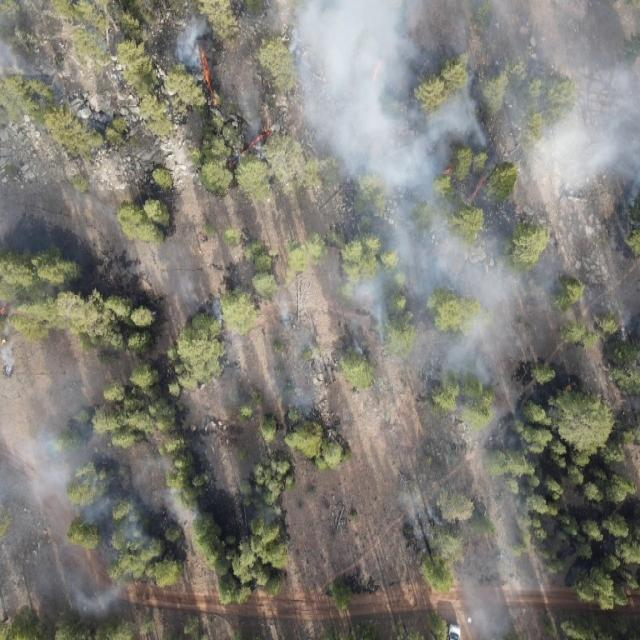fire: (225, 127, 272, 169), (198, 46, 218, 102), (468, 174, 488, 201), (372, 59, 386, 83), (0, 300, 10, 320), (441, 164, 454, 178), (566, 381, 572, 393)
smoke: (272, 0, 640, 218), (0, 402, 196, 627), (336, 217, 572, 402), (390, 399, 525, 640), (171, 258, 331, 422), (0, 0, 78, 100), (222, 71, 277, 161), (172, 1, 220, 87), (581, 277, 632, 334), (0, 329, 27, 378), (81, 195, 117, 224)
